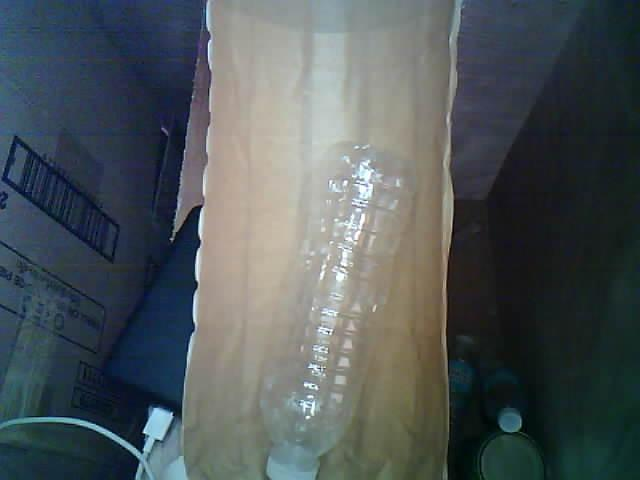small_bottle: (243, 136, 425, 480)
